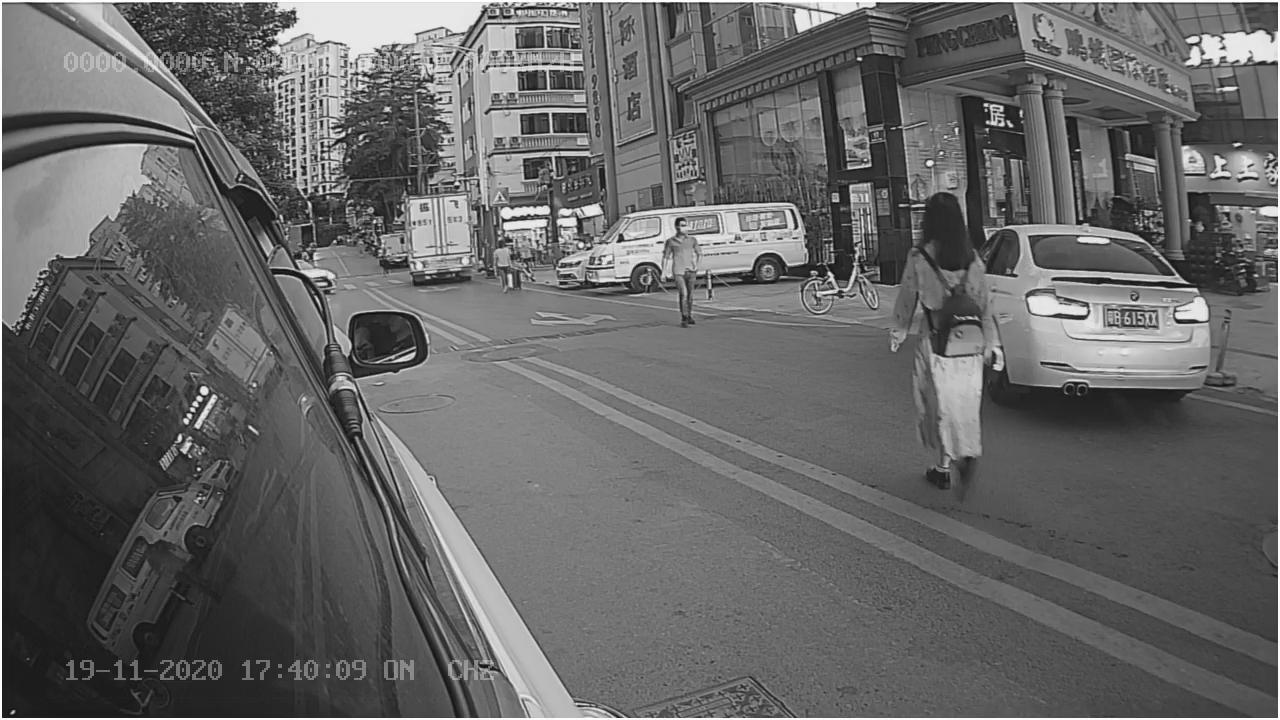person: (887, 190, 1008, 502)
